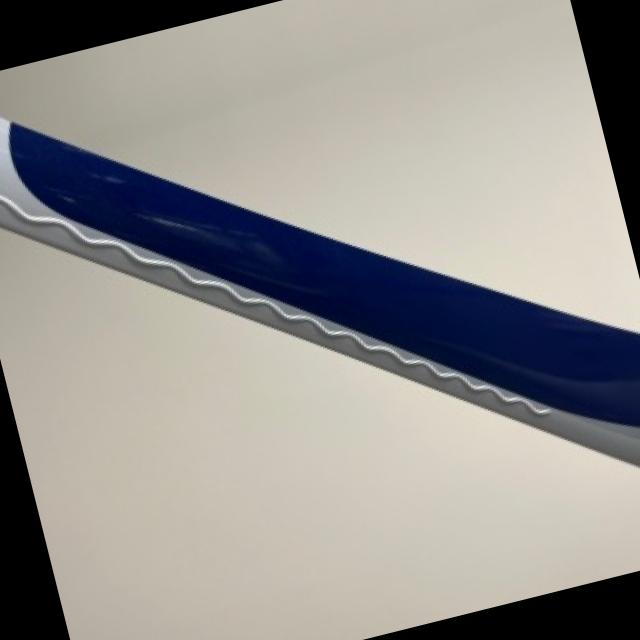healthy: (0, 230, 640, 640)
